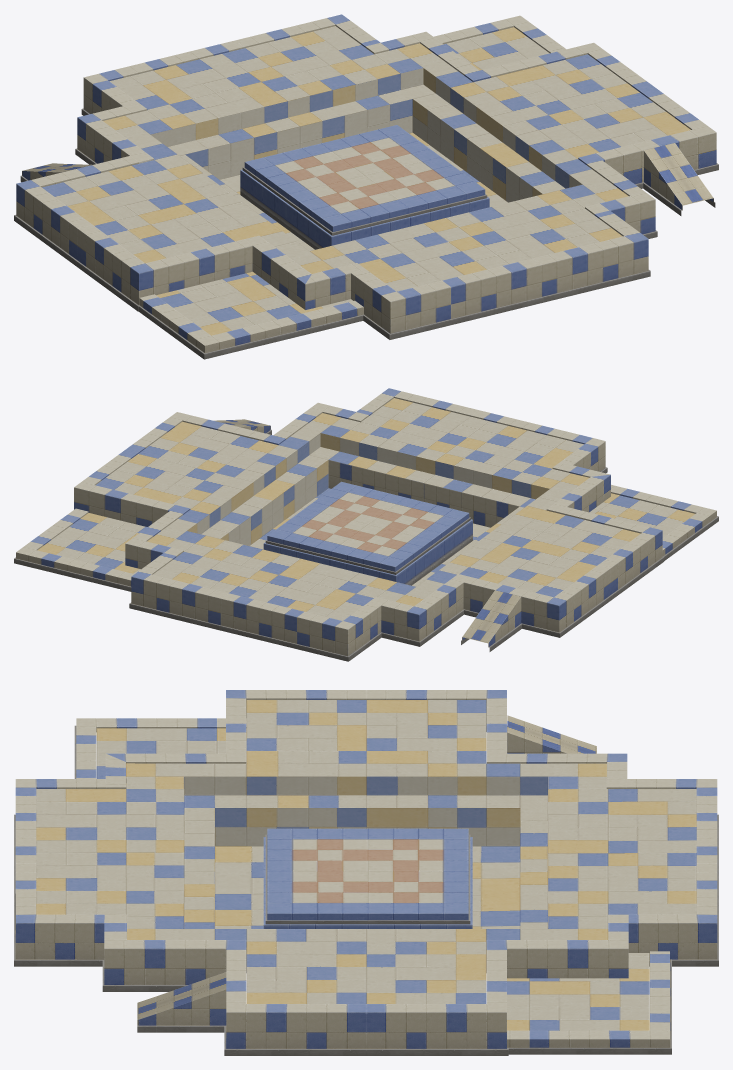
Rendered from sc_dungeon_duobiwanfa_001.FBX.
3 renders of one model, top to bottom at view 1: azimuth 30°, elevation 25°; view 2: azimuth 150°, elevation 25°; view 3: azimuth 270°, elevation 25°, orthographic. The views are drawn at different scales.
Visible parts, largest first — view 1: sc_dungeon_duobiwanfa_001; view 2: sc_dungeon_duobiwanfa_001; view 3: sc_dungeon_duobiwanfa_001.
Part boxes in pixels (x1,y1,x2,y2): sc_dungeon_duobiwanfa_001: (14, 14, 718, 359); sc_dungeon_duobiwanfa_001: (14, 388, 718, 661); sc_dungeon_duobiwanfa_001: (14, 690, 718, 1055).
Size of the model in its own units: 72.65 by 6.51 by 66.79.
Materials: 1 (1 with a texture image).
